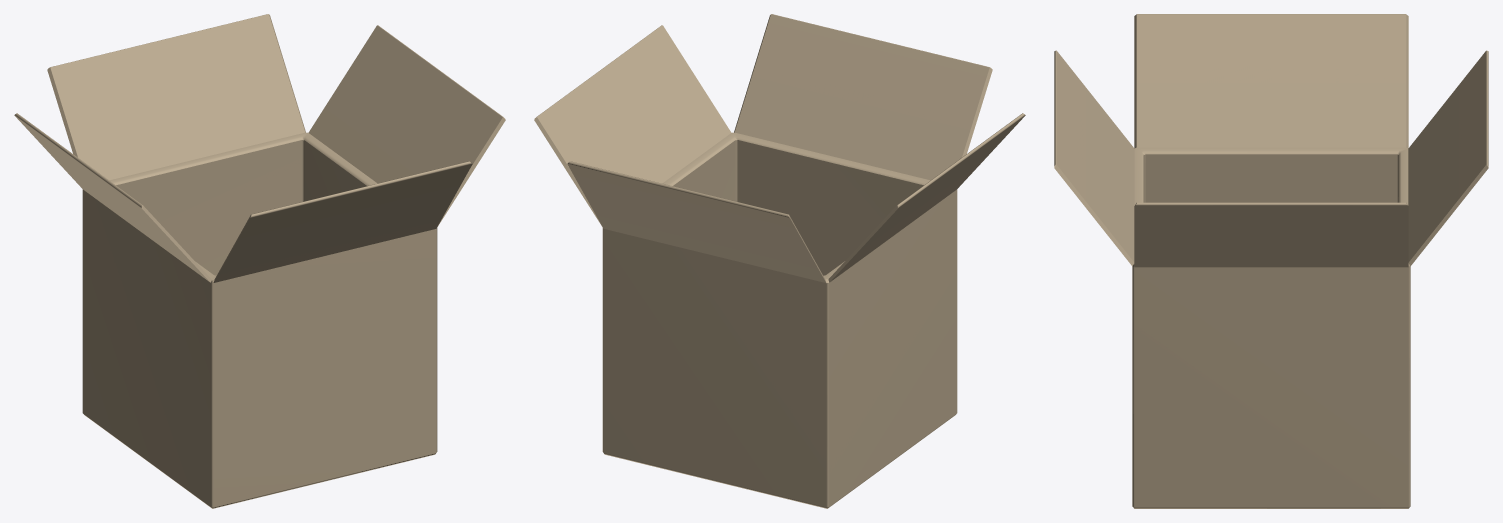
3 renders of one model, left to right at view 1: azimuth 30°, elevation 25°; view 2: azimuth 150°, elevation 25°; view 3: azimuth 270°, elevation 25°, orthographic. The views are drawn at different scales.
Visible parts, largest first — view 1: pCube1, pCube1.003, pCube1.004, pCube1.001, pCube1.002; view 2: pCube1, pCube1.001, pCube1.004, pCube1.003, pCube1.002; view 3: pCube1, pCube1.002, pCube1.004, pCube1.001, pCube1.003.
Part boxes in pixels (left/top/right/bottom): pCube1: left=82, top=132, right=437, bottom=508; pCube1.003: left=47, top=14, right=305, bottom=180; pCube1.004: left=308, top=25, right=505, bottom=227; pCube1.001: left=213, top=161, right=472, bottom=282; pCube1.002: left=14, top=113, right=211, bottom=282; pCube1: left=602, top=132, right=957, bottom=508; pCube1.001: left=734, top=14, right=992, bottom=180; pCube1.004: left=534, top=25, right=731, bottom=227; pCube1.003: left=567, top=161, right=826, bottom=282; pCube1.002: left=828, top=113, right=1025, bottom=282; pCube1: left=1132, top=147, right=1410, bottom=508; pCube1.002: left=1134, top=14, right=1408, bottom=148; pCube1.004: left=1134, top=202, right=1408, bottom=267; pCube1.001: left=1054, top=50, right=1134, bottom=266; pCube1.003: left=1408, top=50, right=1488, bottom=265.
Size of the model in its own units: 176 by 148 by 170.
